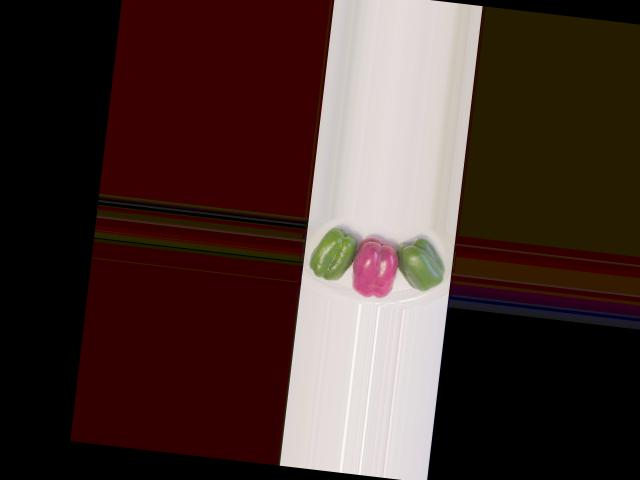bell_pepper: (391, 230, 451, 300)
